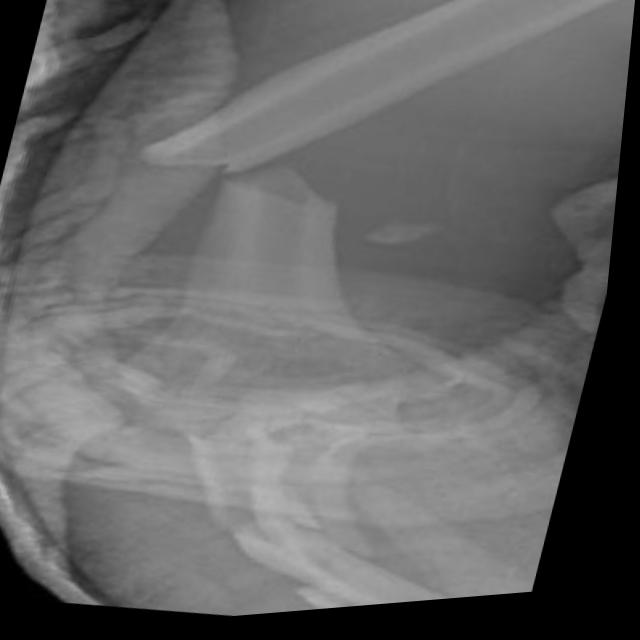fracture: (111, 120, 372, 232)
